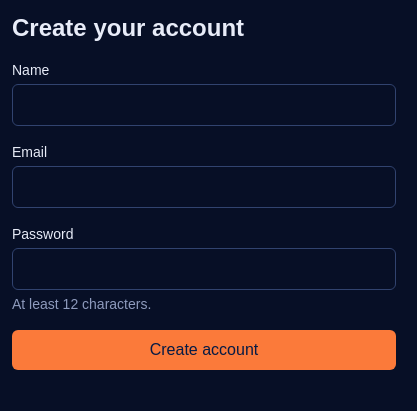
RegisterForm › shows a duplicate-email error on the email field and re-enables the form
Type "Ann" into the field labelled "Name" at (204, 105), box [12, 84, 396, 126]
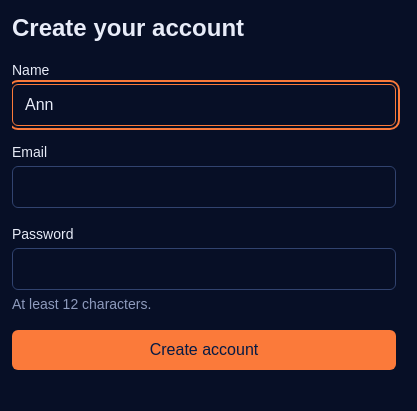
Type "ann@example.invalid" into the field labelled "Email" at (204, 187), box [12, 166, 396, 208]
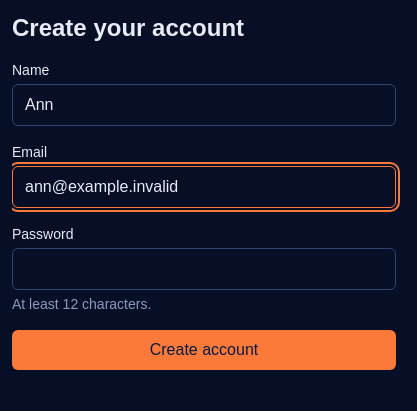
Type "correct horse battery" into the password field labelled "Password" at (204, 269), box [12, 248, 396, 290]
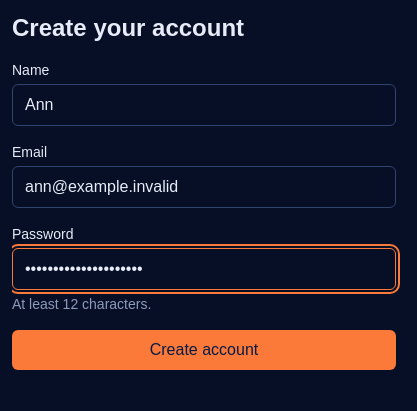
Click the button "Create account" at (204, 350), box [12, 330, 396, 370]
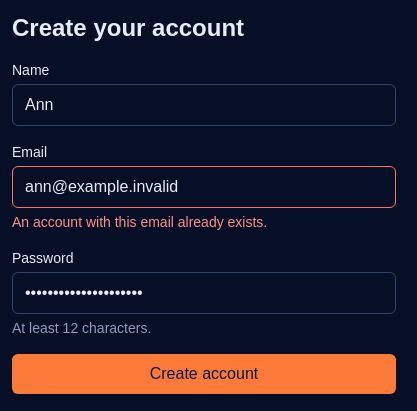
Expected: the button "Create account" is enabled, [12, 354, 396, 394]
Now the text "An account with this email already exists." is shown, box [12, 214, 267, 230]
